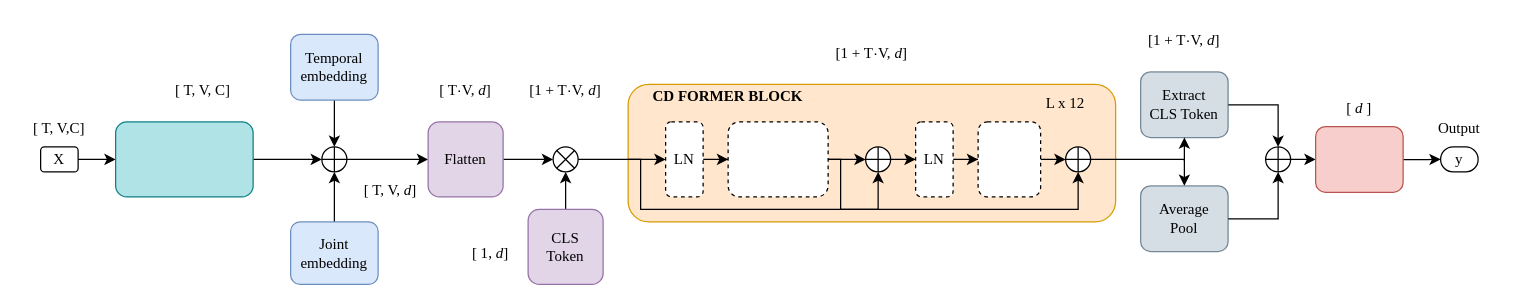
Some shapes in this 1518 by 306 pixel diagram are drawn without their labels. The centre of each missing label's shape, as x and y in pixels:
Classification Head: point 1358,158
Feed Forward: point 1009,159
Linear Projections (C=3→ d =192): point 183,159
Multi-Head Self-Attention (MHSA): point 777,159
